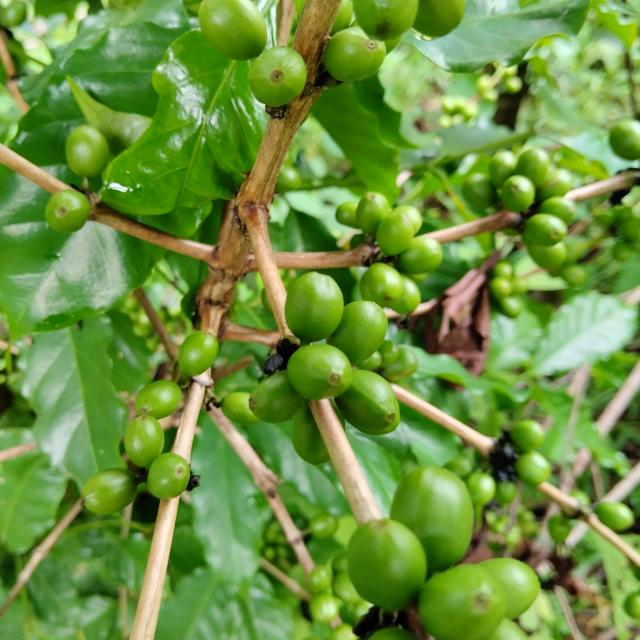green: (391, 466, 475, 573), (348, 519, 428, 612), (335, 370, 400, 436), (285, 271, 344, 342), (198, 0, 267, 60), (327, 301, 388, 364), (287, 344, 352, 401), (248, 45, 306, 106), (324, 25, 386, 81), (249, 371, 304, 424), (291, 401, 330, 466), (65, 125, 109, 177), (124, 416, 164, 468), (147, 453, 190, 500), (360, 262, 404, 307), (134, 380, 181, 420), (178, 331, 218, 376), (500, 174, 536, 212)
